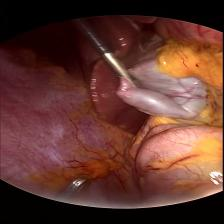Grasper: (102, 50, 140, 92)
